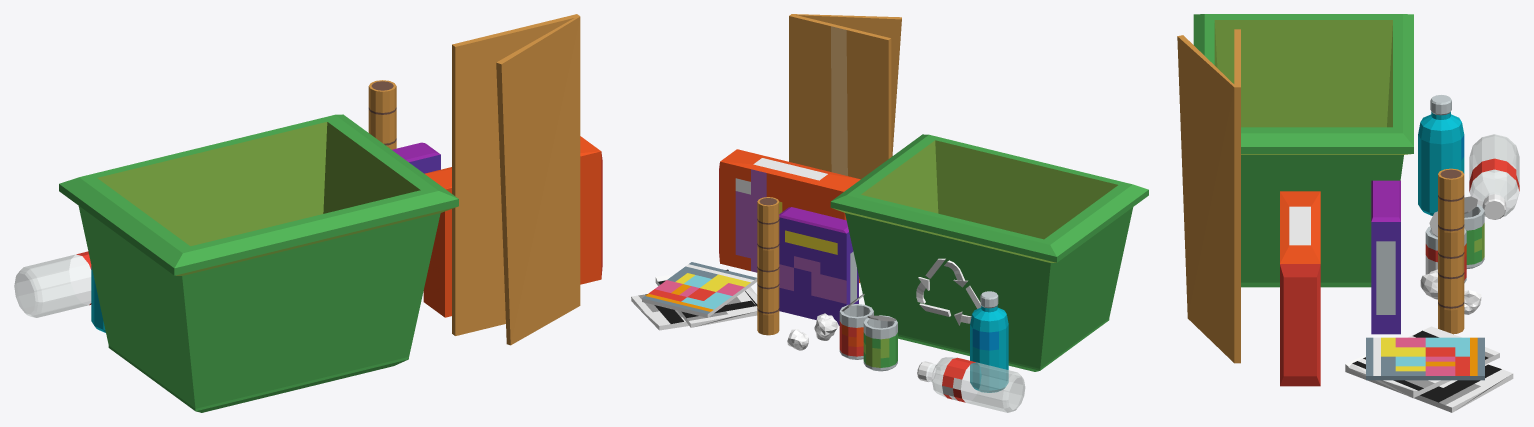
File: trash.glb
3 renders of one model, left to right at view 1: azimuth 30°, elevation 25°; view 2: azimuth 150°, elevation 25°; view 3: azimuth 270°, elevation 25°, orthographic. The views are drawn at different scales.
Parts seen in each view (by area): view 1: group1637931058, group2137913344, group1373108668, group1279790214, group1926466534, group1143783783; view 2: group1637931058, group2137913344, group1373108668, group1143783783, group1279790214, group1198732575, group663708940, group1926466534, group203695626, group352370893, group405281105, group174772603 (+1 smaller); view 3: group1637931058, group2137913344, group1373108668, group1198732575, group1143783783, group1926466534, group663708940, group1279790214, group174772603, group405281105, group203695626, group352370893 (+2 smaller).
Part boxes in pixels (bbox=[...]): group1637931058: bbox=[59, 114, 458, 412]; group2137913344: bbox=[452, 14, 580, 345]; group1373108668: bbox=[423, 136, 602, 317]; group1279790214: bbox=[14, 251, 91, 317]; group1926466534: bbox=[368, 80, 396, 149]; group1143783783: bbox=[392, 142, 440, 173]; group1637931058: bbox=[830, 134, 1148, 371]; group2137913344: bbox=[789, 14, 901, 179]; group1373108668: bbox=[719, 149, 860, 282]; group1143783783: bbox=[779, 207, 858, 325]; group1279790214: bbox=[917, 357, 1025, 412]; group1198732575: bbox=[642, 262, 757, 317]; group663708940: bbox=[970, 291, 1008, 392]; group1926466534: bbox=[757, 197, 779, 335]; group203695626: bbox=[863, 315, 897, 371]; group352370893: bbox=[839, 294, 873, 359]; group405281105: bbox=[655, 269, 757, 327]; group174772603: bbox=[631, 286, 757, 330]; group1637931058: bbox=[1193, 14, 1413, 287]; group2137913344: bbox=[1177, 29, 1240, 363]; group1373108668: bbox=[1280, 191, 1320, 386]; group1198732575: bbox=[1366, 337, 1484, 380]; group1143783783: bbox=[1371, 180, 1400, 334]; group1926466534: bbox=[1438, 168, 1464, 334]; group663708940: bbox=[1418, 95, 1464, 215]; group1279790214: bbox=[1469, 134, 1519, 219]; group174772603: bbox=[1345, 355, 1513, 412]; group405281105: bbox=[1348, 326, 1499, 398]; group203695626: bbox=[1464, 196, 1484, 268]; group352370893: bbox=[1425, 211, 1466, 283].
Size of the model in its own units: 2.19 by 1.23 by 1.32.
